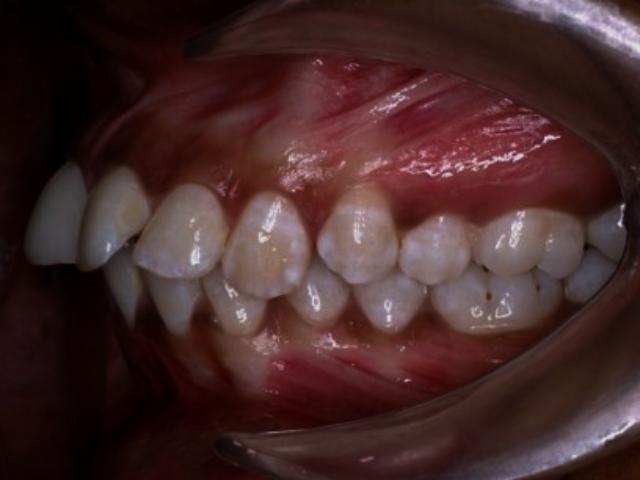canine class I: (198, 171, 342, 351)
molar class III 1/2: (428, 204, 588, 344)
